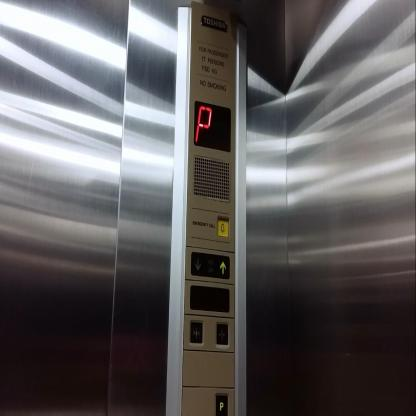P: (214, 390, 229, 416)
alarm: (216, 215, 230, 239)
close: (215, 322, 229, 346)
led: (192, 98, 232, 154), (188, 283, 231, 313), (188, 250, 231, 280)
open: (188, 320, 204, 346)
